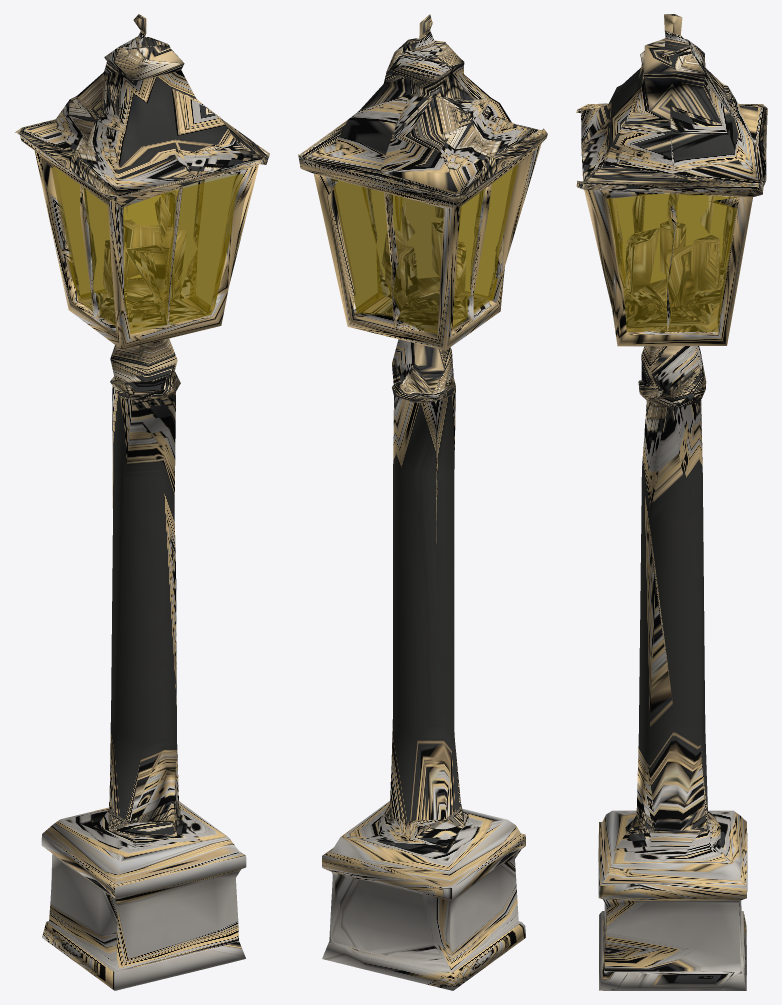
The model's file is lux_lamp.glb.
3 renders of one model, left to right at view 1: azimuth 30°, elevation 25°; view 2: azimuth 150°, elevation 25°; view 3: azimuth 270°, elevation 25°, orthographic.
Visible parts, largest first — view 1: LO, glass; view 2: LO, glass; view 3: LO, glass.
Boxes of the visible parts, box(x1,y1,x2,y2) form: LO: box(15, 14, 269, 990); glass: box(52, 166, 243, 334); LO: box(298, 14, 547, 990); glass: box(331, 164, 518, 334); LO: box(576, 14, 767, 990); glass: box(606, 193, 739, 331).
Size of the model in its own units: 0.6035 by 3.19 by 0.5867.
2 materials, 1 textured.
